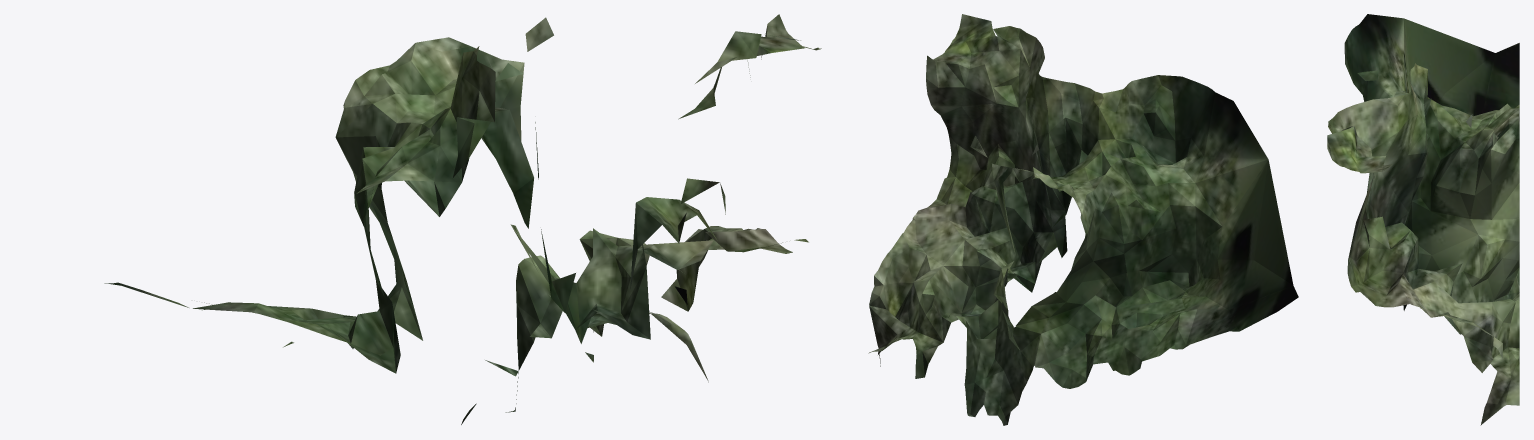
3 views of the same model, side by side, from view 1: azimuth 30°, elevation 25°; view 2: azimuth 150°, elevation 25°; view 3: azimuth 270°, elevation 25° (orthographic). The views are drawn at different scales.
Bounding box in the file's own units: 9.45 × 6.23 × 3.81.
2 materials, 2 textured.
